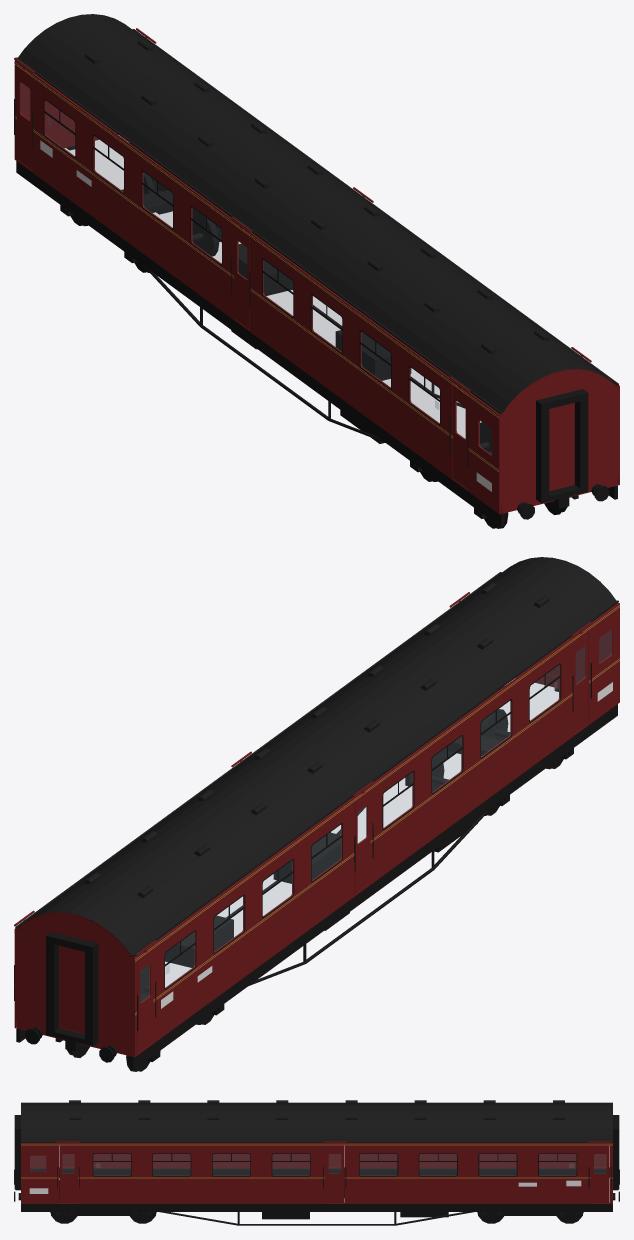
File: coach_buffet1_lod1.glb
3 renders of one model, top to bottom at view 1: azimuth 30°, elevation 25°; view 2: azimuth 150°, elevation 25°; view 3: azimuth 270°, elevation 25°, orthographic. The views are drawn at different scales.
Visible parts, largest first — view 1: coach_static_roof_black, coach_static_coach_maroon, coach_static_underframe, coach_static_glass, coach_static_lining_gold, gw_door_A_coach_maroon; view 2: coach_static_roof_black, coach_static_coach_maroon, coach_static_underframe, coach_static_glass, coach_static_lining_gold, gw_door_B_coach_maroon; view 3: coach_static_coach_maroon, coach_static_roof_black, coach_static_underframe, coach_static_glass, coach_static_lining_gold.
Boxes of the visible parts, x1=… form: coach_static_roof_black: x1=15, y1=14, x2=618, y2=414; coach_static_coach_maroon: x1=14, y1=28, x2=619, y2=514; coach_static_underframe: x1=14, y1=99, x2=617, y2=528; coach_static_glass: x1=20, y1=82, x2=491, y2=454; coach_static_lining_gold: x1=14, y1=62, x2=499, y2=472; gw_door_A_coach_maroon: x1=549, y1=403, x2=574, y2=490; coach_static_roof_black: x1=15, y1=557, x2=618, y2=957; coach_static_coach_maroon: x1=14, y1=592, x2=619, y2=1057; coach_static_underframe: x1=14, y1=663, x2=617, y2=1071; coach_static_glass: x1=140, y1=629, x2=611, y2=1002; coach_static_lining_gold: x1=14, y1=605, x2=619, y2=1015; gw_door_B_coach_maroon: x1=59, y1=946, x2=84, y2=1033; coach_static_coach_maroon: x1=21, y1=1141, x2=612, y2=1203; coach_static_roof_black: x1=21, y1=1100, x2=612, y2=1142; coach_static_underframe: x1=14, y1=1115, x2=619, y2=1225; coach_static_glass: x1=30, y1=1154, x2=606, y2=1175; coach_static_lining_gold: x1=21, y1=1144, x2=612, y2=1178.
Bounding box in the file's own units: 2.9 × 3.91 × 20.12.
